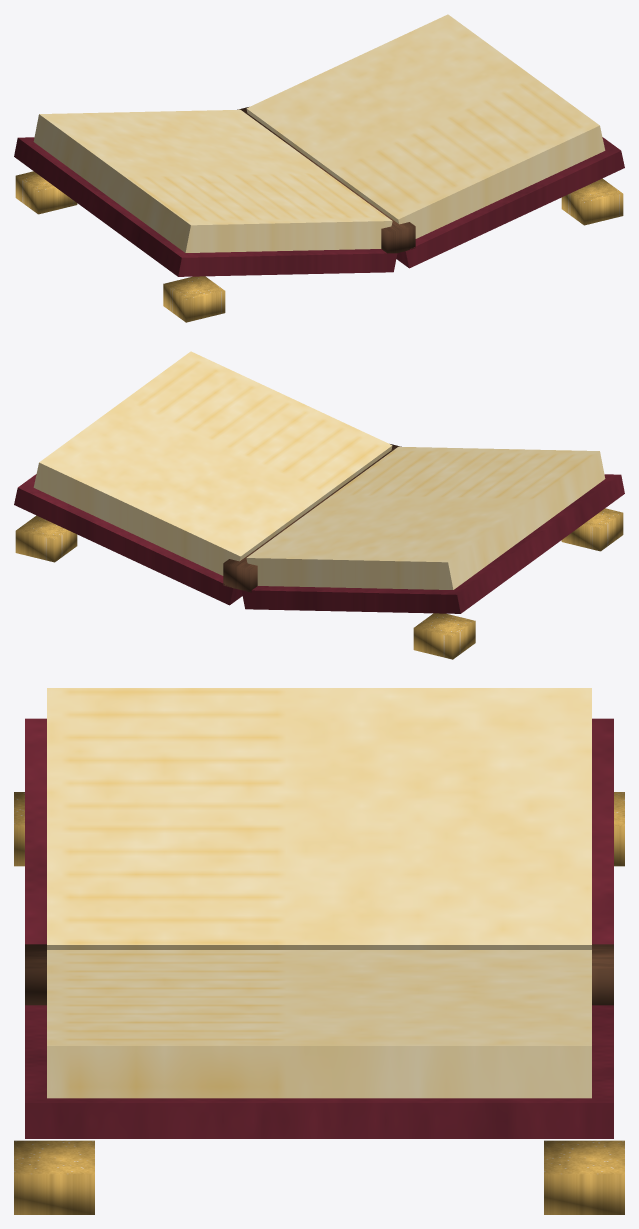
Rendered from rival_mira_book.obj.
3 views of the same model, one above another, from view 1: azimuth 30°, elevation 25°; view 2: azimuth 150°, elevation 25°; view 3: azimuth 270°, elevation 25° (orthographic). The views are drawn at different scales.
Parts seen in each view (by area): view 1: rival_mira_book; view 2: rival_mira_book; view 3: rival_mira_book.
Part boxes in pixels (x1,y1,x2,y2): rival_mira_book: (14,14,624,322); rival_mira_book: (14,351,624,659); rival_mira_book: (14,688,624,1214).
Size of the model in its own units: 0.7856 by 0.1521 by 0.5188.
